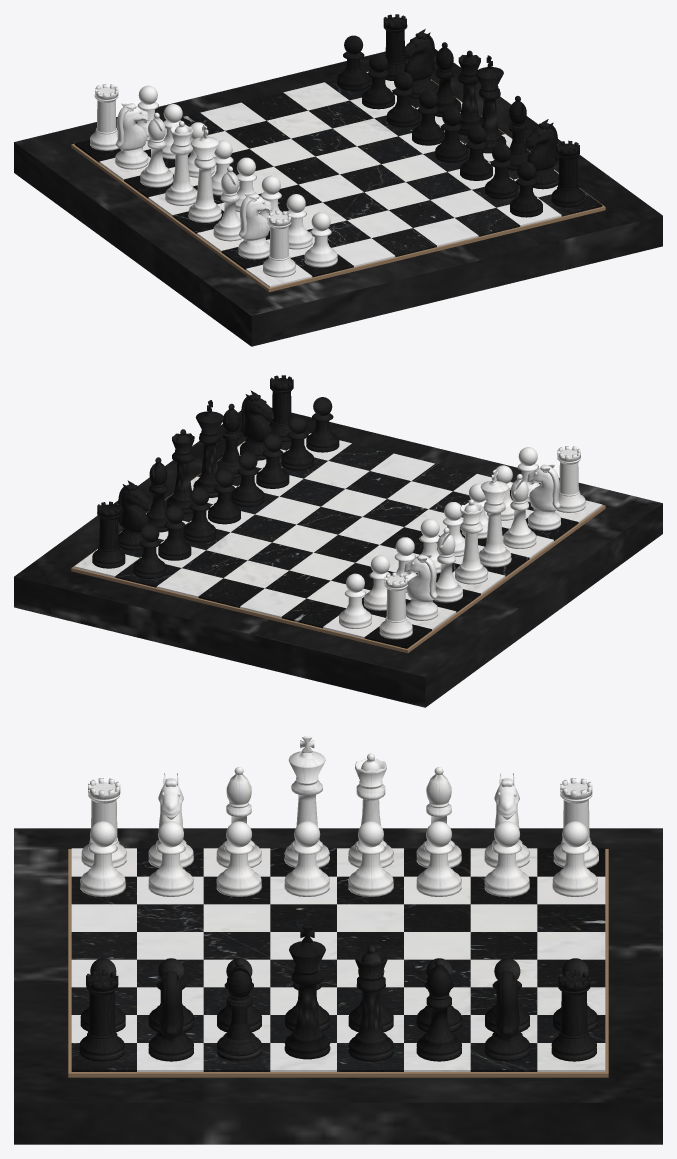
The model's file is chess-board.glb.
The picture shows the model from 3 angles, top to bottom: view 1: azimuth 30°, elevation 25°; view 2: azimuth 150°, elevation 25°; view 3: azimuth 270°, elevation 25°; orthographic projection. The views are drawn at different scales.
Parts seen in each view (by area): view 1: Chess Board, W_King, W_Knight_2, W_Knight_1, B_Knight_1, W_Queen, B_Knight_2, B_King, B_Rook_1, W_Rook_1, W_Rook_2, W_Bishop_2 (+20 smaller); view 2: Chess Board, W_King, W_Knight_1, W_Knight_2, W_Queen, B_Knight_2, B_Knight_1, B_King, B_Rook_2, W_Rook_2, W_Rook_1, B_Queen (+21 smaller); view 3: Chess Board, B_King, B_Queen, B_Rook_2, B_Rook_1, B_Bishop_2, B_Bishop_1, W_King, B_Knight_1, B_Knight_2, W_Pawn_8, W_Pawn_4 (+21 smaller).
Boxes of the visible parts, x1,y1,x2,y2 form: Chess Board: (14, 49, 662, 346); W_King: (188, 125, 221, 222); W_Knight_2: (115, 103, 149, 169); W_Knight_1: (238, 193, 272, 259); B_Knight_1: (525, 119, 558, 189); W_Queen: (165, 121, 197, 205); B_Knight_2: (402, 29, 436, 98); B_King: (475, 55, 506, 153); B_Rook_1: (551, 140, 584, 207); W_Rook_1: (263, 210, 295, 277); W_Rook_2: (90, 84, 118, 150); W_Bishop_2: (140, 112, 173, 187); Chess Board: (14, 407, 662, 707); W_King: (479, 469, 511, 567); W_Knight_1: (527, 464, 560, 530); W_Knight_2: (404, 554, 437, 620); W_Queen: (455, 499, 487, 584); B_Knight_2: (118, 480, 150, 550); B_Knight_1: (240, 390, 273, 460); B_King: (193, 400, 223, 497); B_Rook_2: (92, 501, 125, 568); W_Rook_2: (379, 572, 412, 639); W_Rook_1: (556, 446, 585, 512); B_Queen: (166, 429, 194, 514); Chess Board: (14, 828, 662, 1144); B_King: (284, 926, 330, 1059); B_Queen: (348, 945, 393, 1061); B_Rook_2: (551, 970, 596, 1061); B_Rook_1: (79, 970, 124, 1061); B_Bishop_2: (416, 959, 461, 1061); B_Bishop_1: (217, 959, 261, 1061); W_King: (284, 736, 329, 867); B_Knight_1: (148, 971, 193, 1061); B_Knight_2: (485, 971, 529, 1061); W_Pawn_8: (552, 821, 597, 896); W_Pawn_4: (284, 821, 329, 896).
Size of the model in its own units: 2.05 by 0.6077 by 2.05.
Materials: 6 (5 with a texture image).
